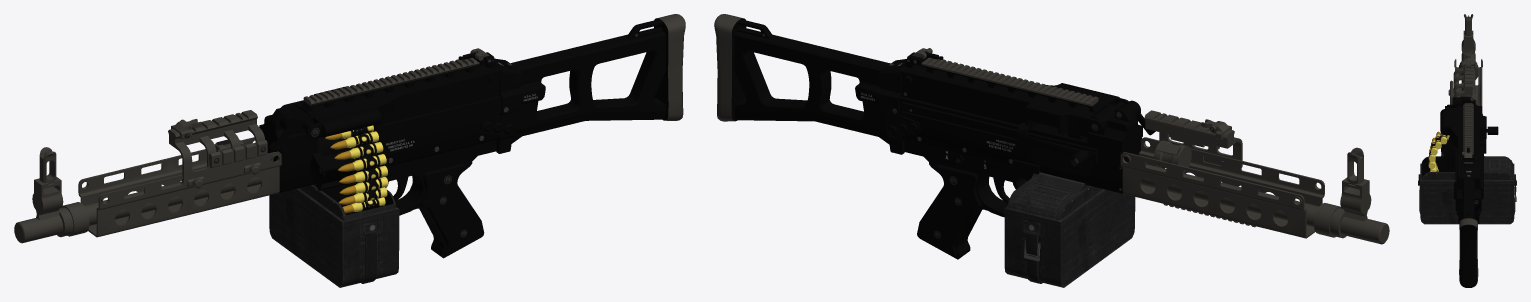
The model's file is weapon_combatmg_mk2.glb.
3 renders of one model, left to right at view 1: azimuth 30°, elevation 25°; view 2: azimuth 150°, elevation 25°; view 3: azimuth 270°, elevation 25°, orthographic. The views are drawn at different scales.
Visible parts, largest first — view 1: main_frame_combatmg_mk2, rail_combatmg_mk2, stock_combatmg_mk2, magazine_combatmg_mk2, grip_combatmg_mk2, barrel_combatmg_mk2, front_sight_combatmg_mk2; view 2: main_frame_combatmg_mk2, rail_combatmg_mk2, stock_combatmg_mk2, magazine_combatmg_mk2, grip_combatmg_mk2, barrel_combatmg_mk2, front_sight_combatmg_mk2; view 3: magazine_combatmg_mk2, main_frame_combatmg_mk2, stock_combatmg_mk2, rail_combatmg_mk2, front_sight_combatmg_mk2, barrel_combatmg_mk2, rear_sight_combatmg_mk2.
Boxes of the visible parts, box(x1,y1,x2,y2) form: main_frame_combatmg_mk2: box(259, 52, 522, 213); rail_combatmg_mk2: box(78, 110, 281, 237); stock_combatmg_mk2: box(510, 14, 685, 143); magazine_combatmg_mk2: box(269, 179, 399, 287); grip_combatmg_mk2: box(373, 137, 512, 258); barrel_combatmg_mk2: box(14, 177, 261, 243); front_sight_combatmg_mk2: box(32, 147, 63, 220); main_frame_combatmg_mk2: box(878, 52, 1155, 193); rail_combatmg_mk2: box(1120, 110, 1324, 238); stock_combatmg_mk2: box(714, 14, 890, 144); magazine_combatmg_mk2: box(1004, 172, 1135, 287); grip_combatmg_mk2: box(888, 138, 1039, 259); barrel_combatmg_mk2: box(1141, 164, 1389, 244); front_sight_combatmg_mk2: box(1340, 147, 1371, 221); magazine_combatmg_mk2: box(1418, 156, 1516, 224); main_frame_combatmg_mk2: box(1428, 96, 1498, 215); stock_combatmg_mk2: box(1456, 178, 1480, 287); rail_combatmg_mk2: box(1448, 59, 1482, 115); front_sight_combatmg_mk2: box(1461, 14, 1475, 58); barrel_combatmg_mk2: box(1459, 52, 1478, 93); rear_sight_combatmg_mk2: box(1461, 147, 1475, 161).
Bounding box in the file's own units: 106 × 30.62 × 21.48.
4 materials, 4 textured.
